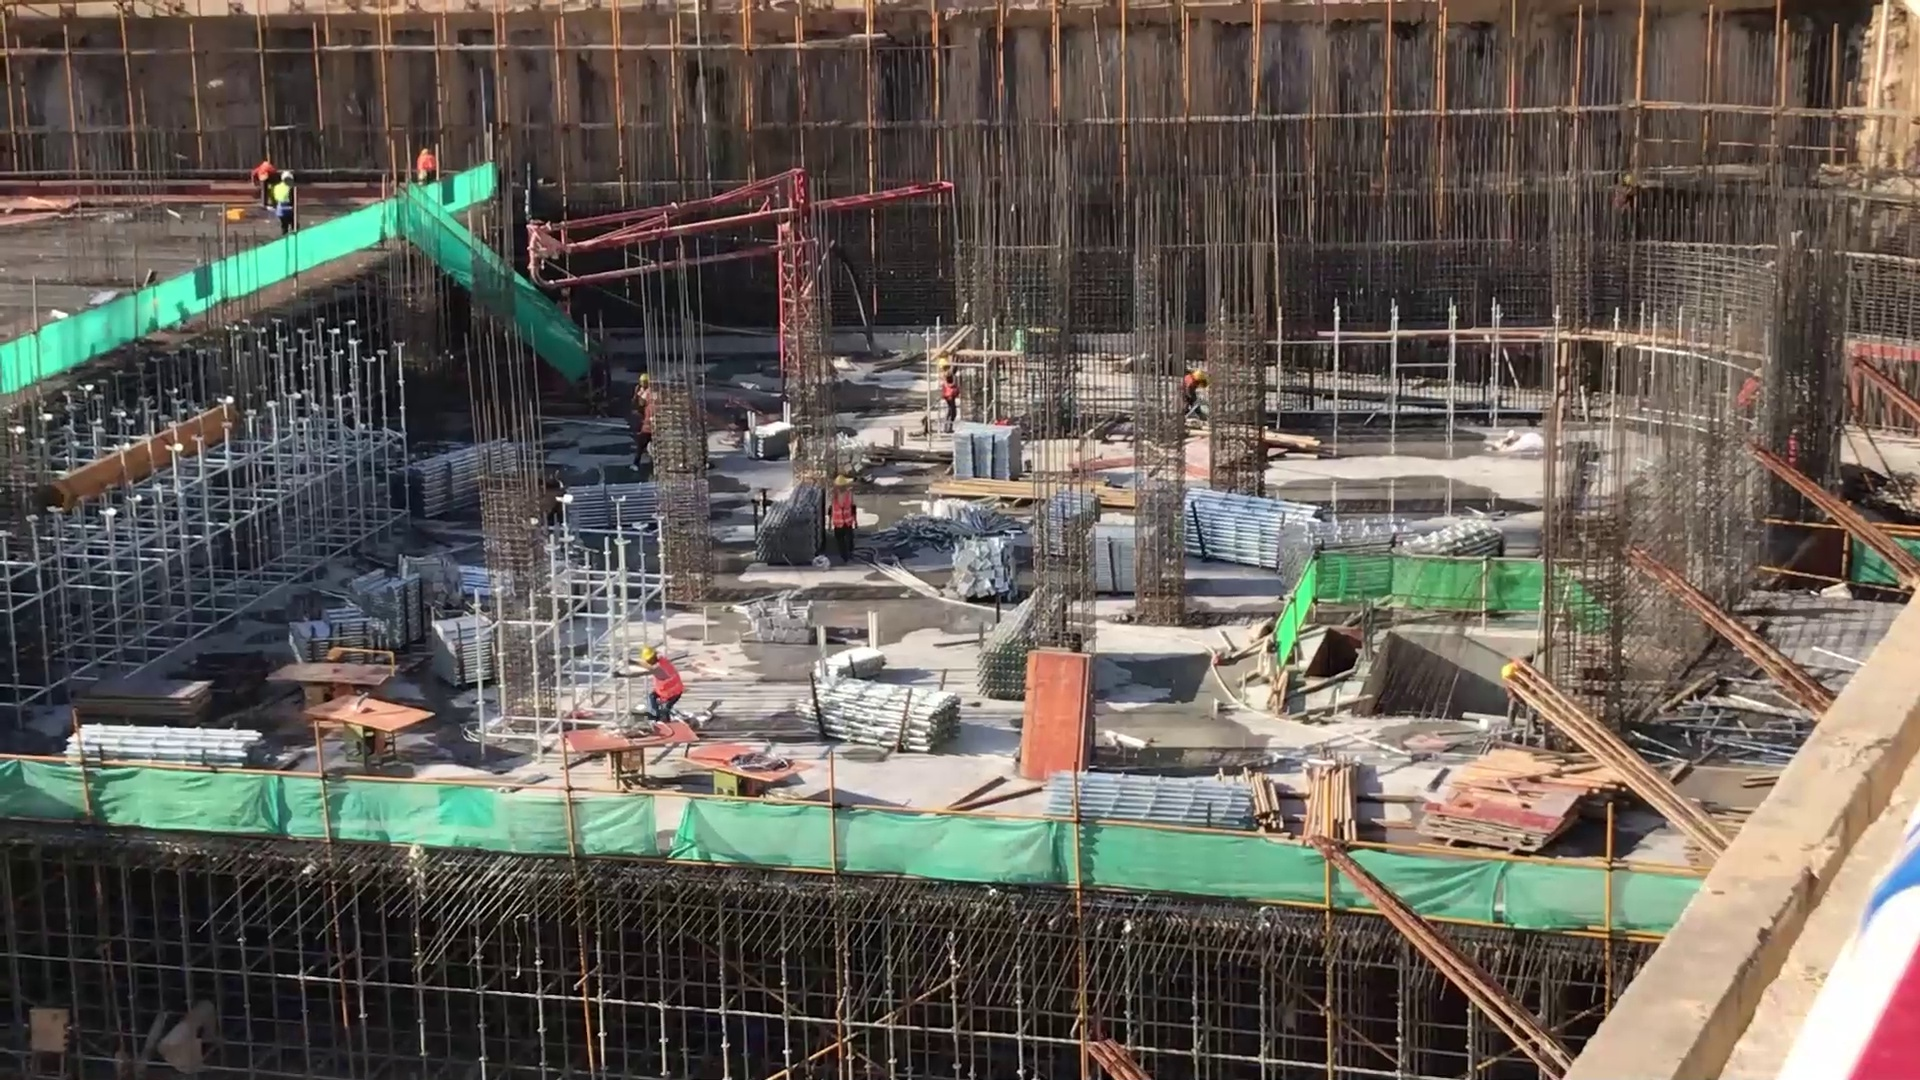board: (284, 657, 429, 748), (1436, 777, 1575, 864), (1023, 650, 1112, 777), (689, 735, 810, 797), (568, 728, 691, 772)
helmet: (634, 635, 664, 671), (829, 473, 855, 495), (274, 165, 295, 184), (634, 373, 656, 389), (1192, 359, 1206, 380), (936, 357, 954, 375)
person: (635, 645, 687, 723), (826, 471, 861, 562), (933, 356, 965, 436), (270, 168, 303, 239), (1179, 367, 1209, 424)
scaffold: (1041, 763, 1258, 841), (64, 712, 297, 785), (805, 668, 962, 763), (1173, 487, 1302, 573), (967, 579, 1043, 706), (394, 442, 516, 506), (353, 572, 427, 650), (431, 615, 505, 690), (563, 480, 666, 525), (296, 604, 374, 648), (946, 424, 1008, 473)
vest: (650, 661, 678, 705), (830, 487, 852, 522), (271, 181, 295, 210), (937, 373, 958, 406)
wood: (1297, 754, 1360, 845)
